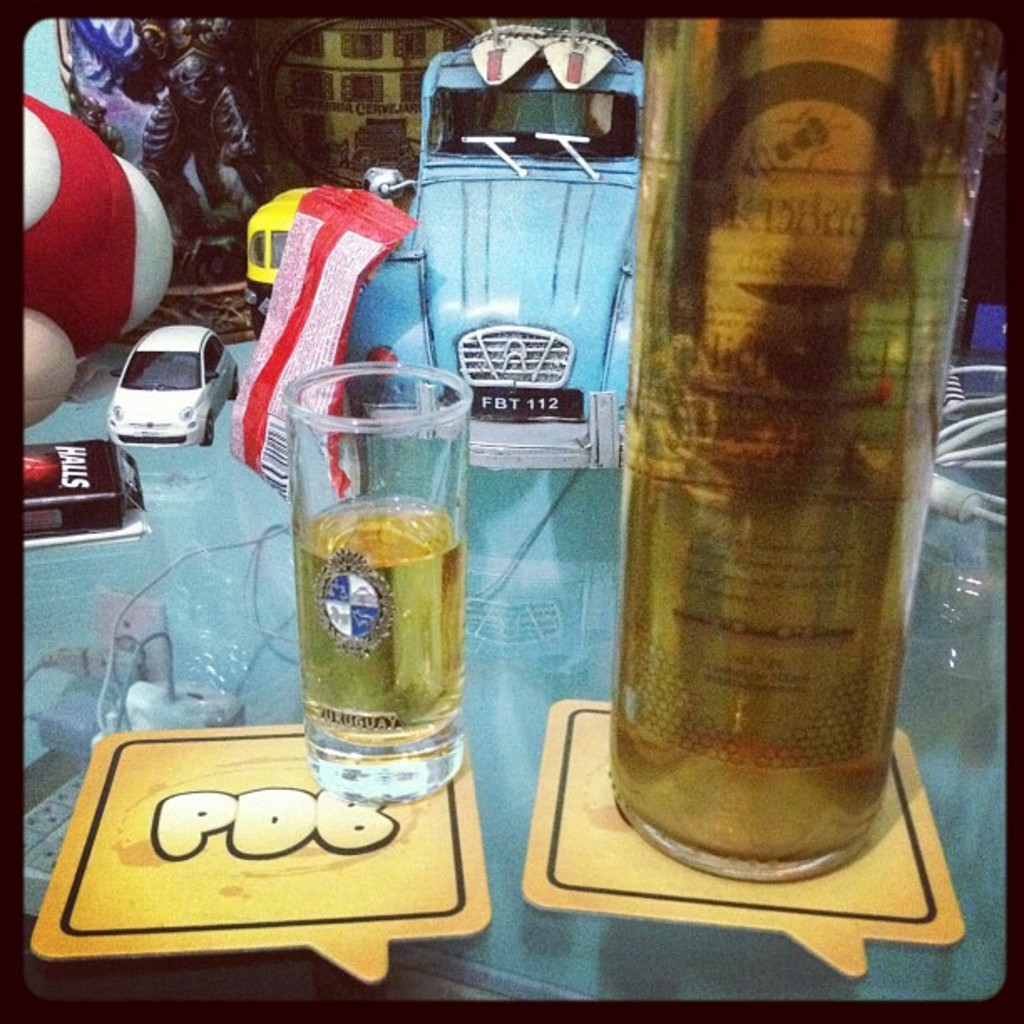Beer: (635, 5, 1017, 893), (269, 353, 463, 798)
